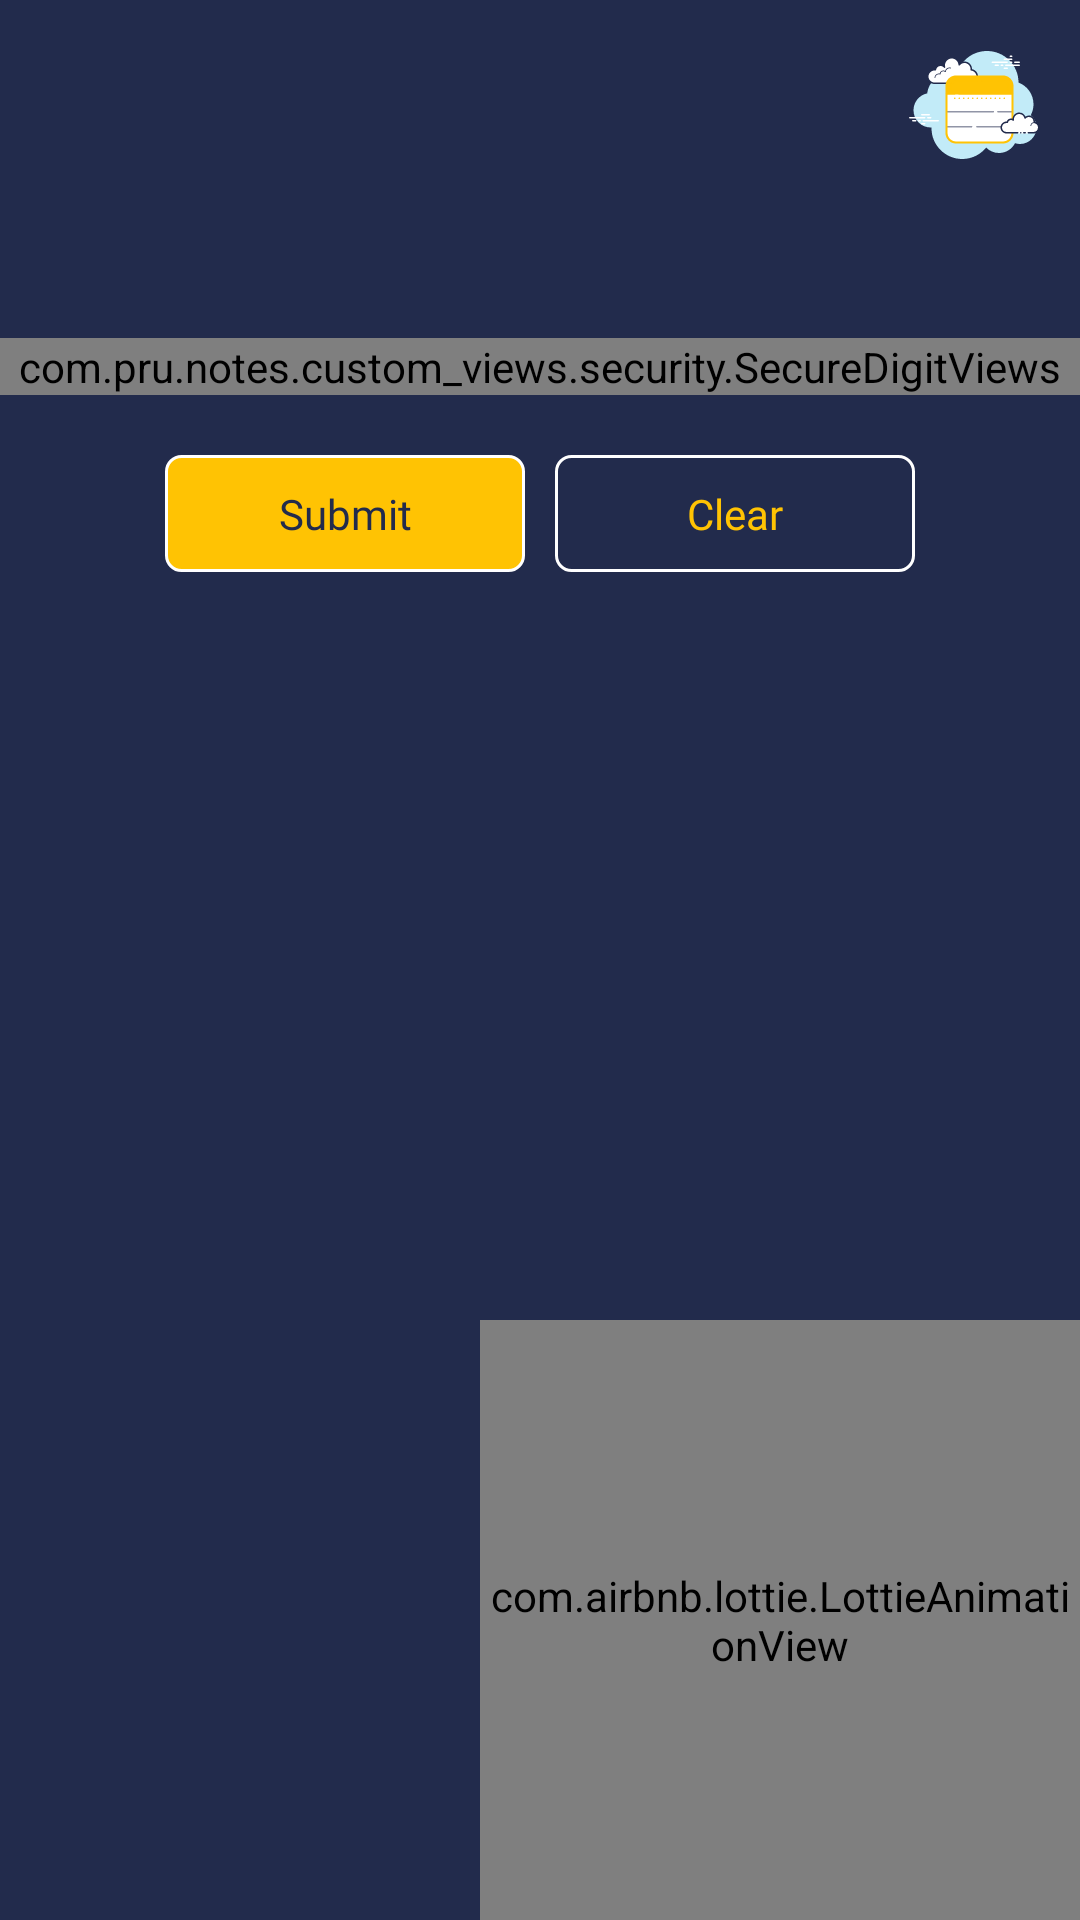

Named icons in this screenshot (1080 × 1920) and their centers, (x,y):
notes: (973,105)
